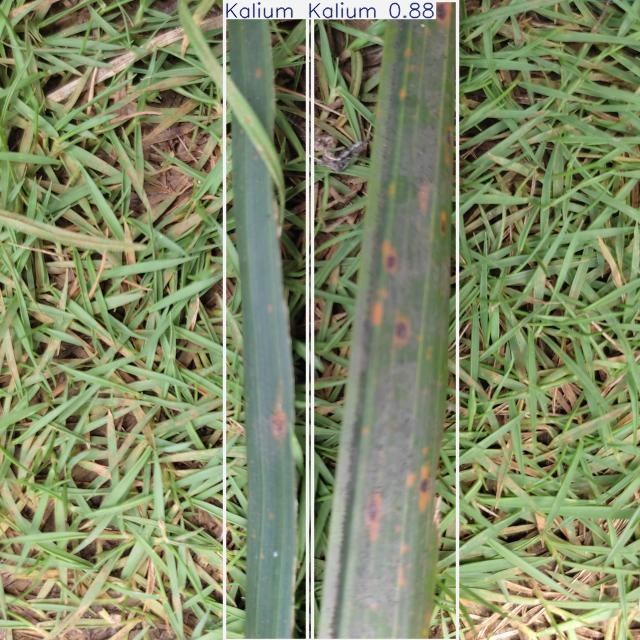Kalium: (308, 0, 458, 640), (224, 0, 312, 640)
